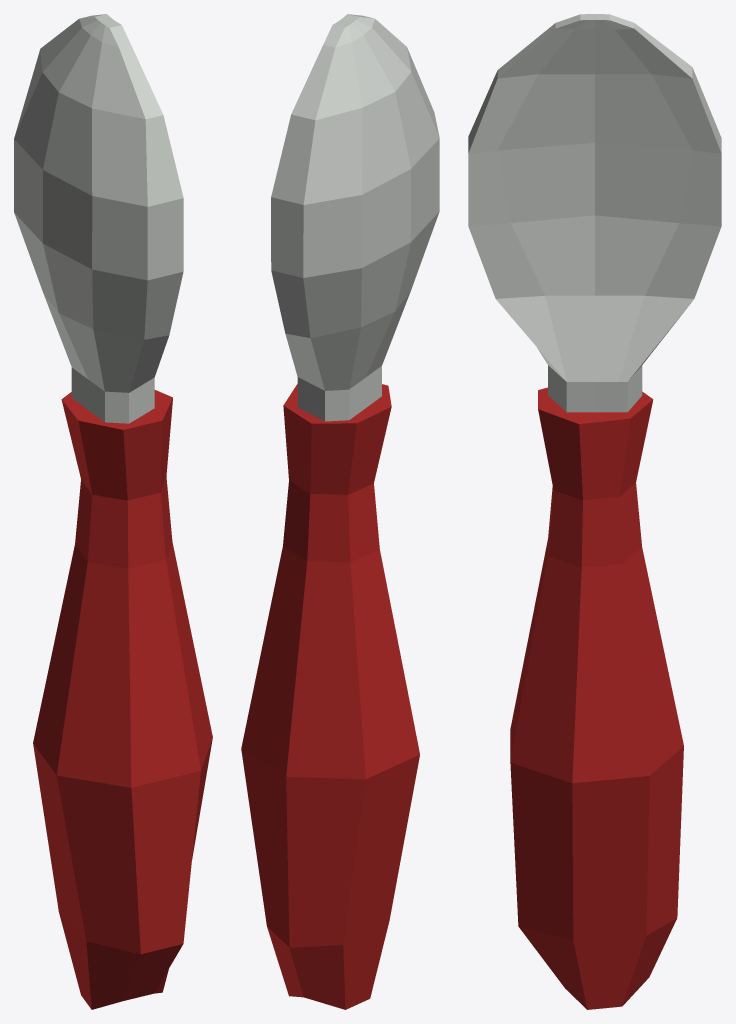
Rendered from spoon-red.fbx.
3 renders of one model, left to right at view 1: azimuth 30°, elevation 25°; view 2: azimuth 150°, elevation 25°; view 3: azimuth 270°, elevation 25°, orthographic.
Visible parts, largest first — view 1: spoon.004; view 2: spoon.004; view 3: spoon.004.
Boxes of the visible parts, <box> form: spoon.004: <box>14,14,212,1009</box>; spoon.004: <box>241,14,439,1009</box>; spoon.004: <box>468,14,721,1009</box>.
Bounding box in the file's own units: 144 × 850 × 202.
